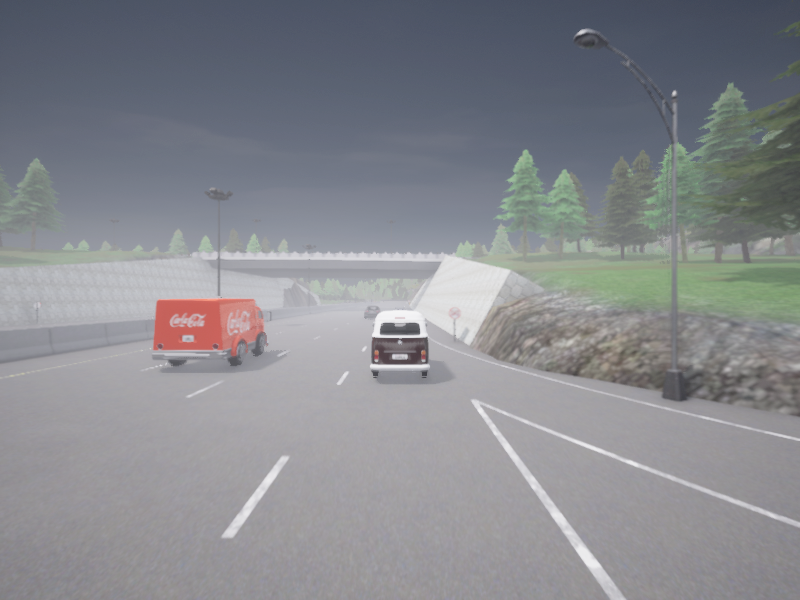vehicle: (152, 298, 271, 365), (370, 311, 429, 377), (364, 306, 381, 318), (394, 306, 405, 310)
